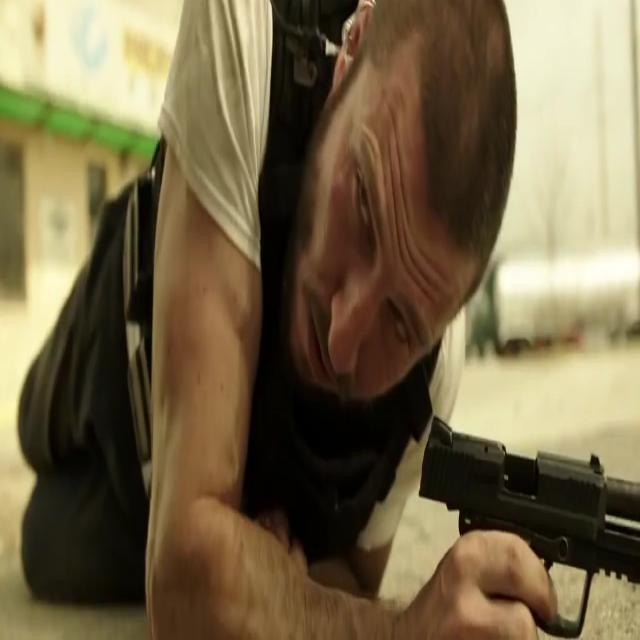Weapon: (409, 387, 640, 640)
